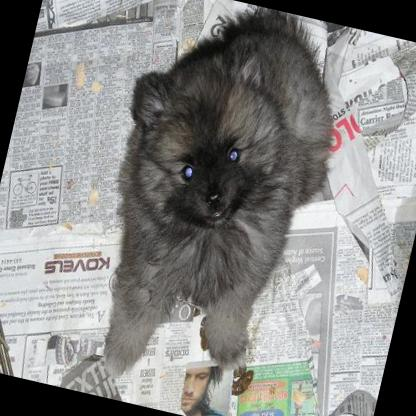keeshond: (68, 0, 359, 409)
